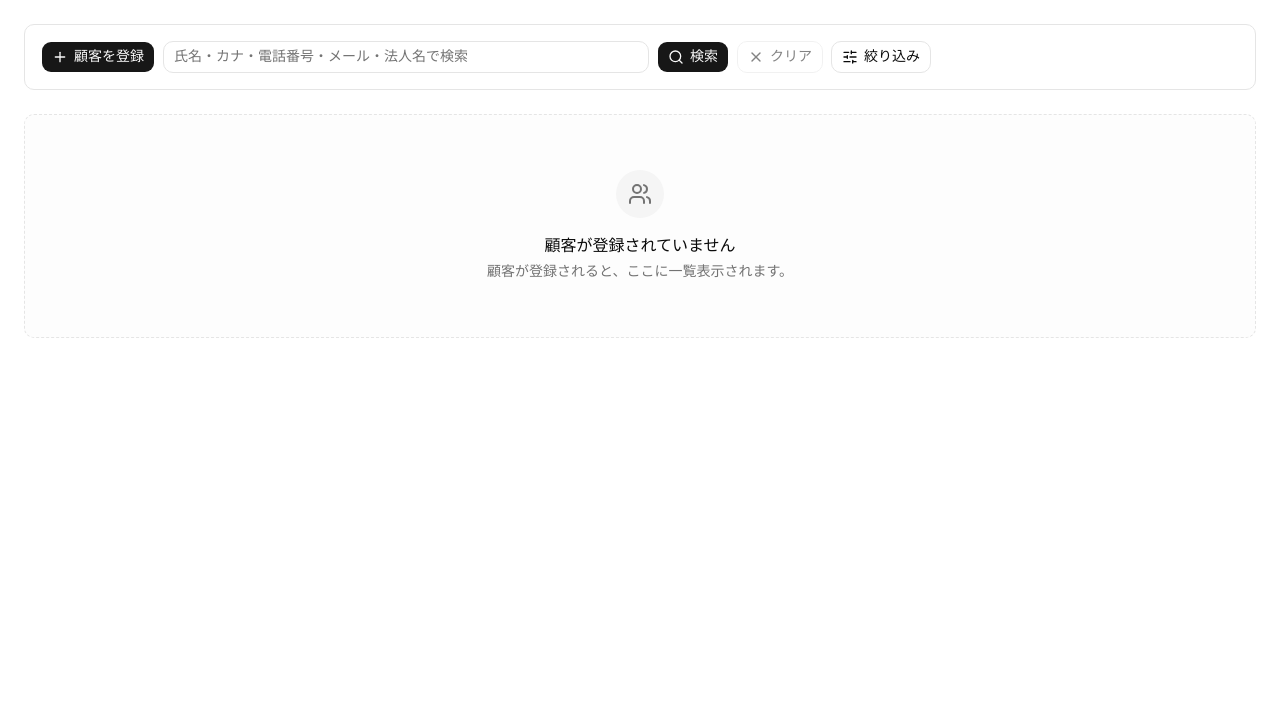
Test: CustomerListPageClient › 顧客を登録を押すと、新規登録ダイアログを表示する
The width and height of the screenshot is (1280, 720).
Expected: the text "顧客が登録されていません" is shown, [544, 234, 736, 258]
Click the button "顧客を登録".
click(98, 57)  # box [41, 41, 155, 73]
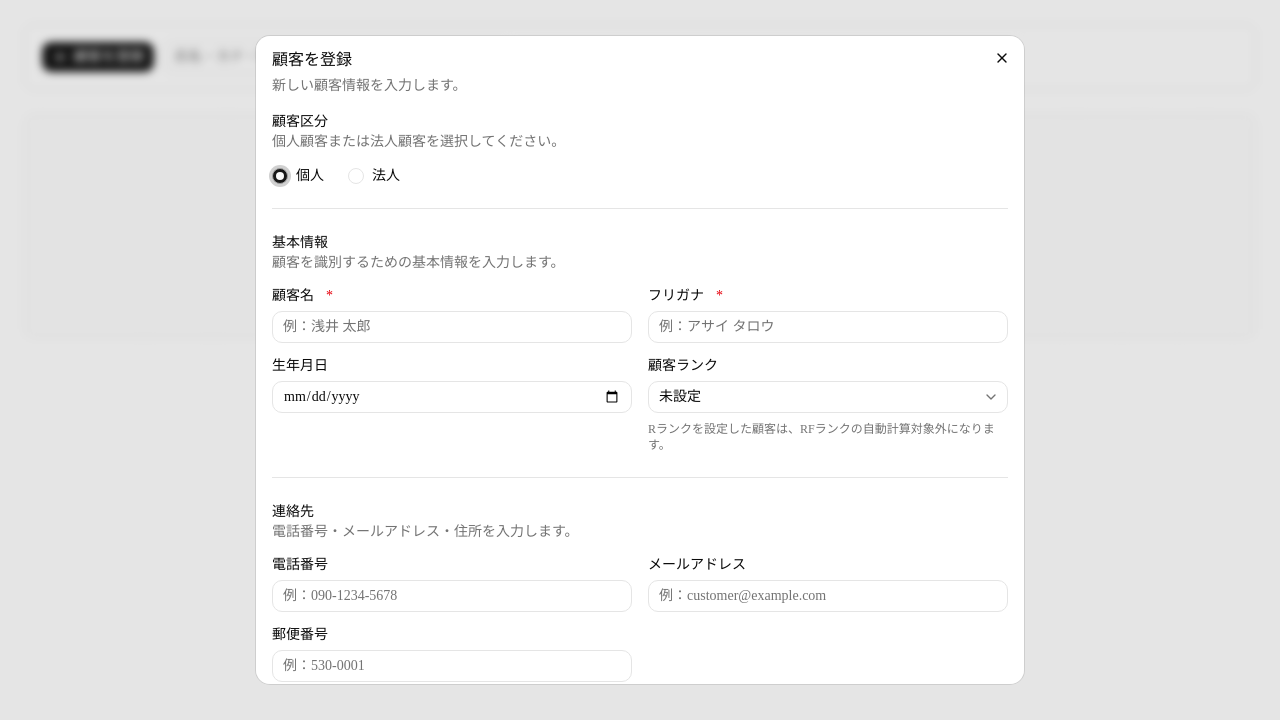
Now the heading "顧客を登録" is shown, box [272, 51, 352, 68]
Now the text "新しい顧客情報を入力します。" is shown, box [272, 78, 467, 93]
Now the 1st radio button named "個人" is checked, box [272, 168, 288, 184]
